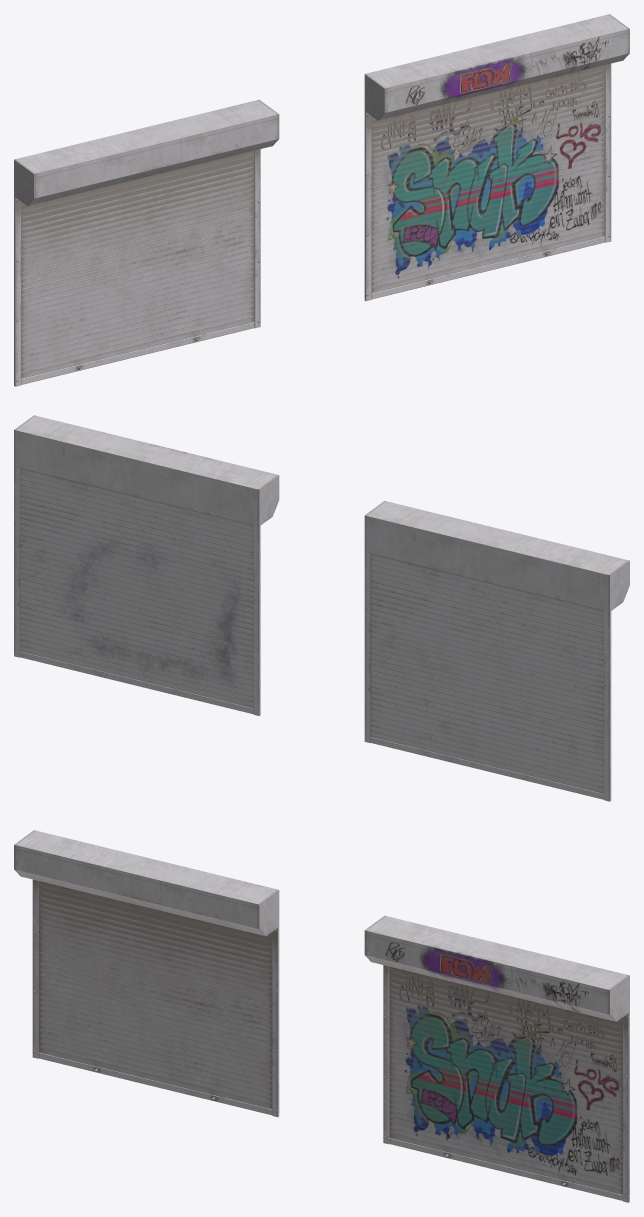
The model's file is shutter_window.glb.
3 views of the same model, one above another, from view 1: azimuth 30°, elevation 25°; view 2: azimuth 150°, elevation 25°; view 3: azimuth 330°, elevation 25° (orthographic).
Parts seen in each view (by area): view 1: rollershutter_window_01_graffiti, rollershutter_window_01; view 2: rollershutter_window_01, rollershutter_window_01_graffiti; view 3: rollershutter_window_01, rollershutter_window_01_graffiti.
Boxes of the visible parts, box(x1,y1,x2,y2) form: rollershutter_window_01_graffiti: box(364, 14, 629, 301); rollershutter_window_01: box(14, 99, 279, 386); rollershutter_window_01: box(364, 501, 629, 801); rollershutter_window_01_graffiti: box(14, 415, 279, 715); rollershutter_window_01: box(14, 830, 279, 1117); rollershutter_window_01_graffiti: box(364, 915, 629, 1202).
Bounding box in the file's own units: 5.1 × 1.85 × 0.3001.
Materials: 2 (2 with a texture image).
